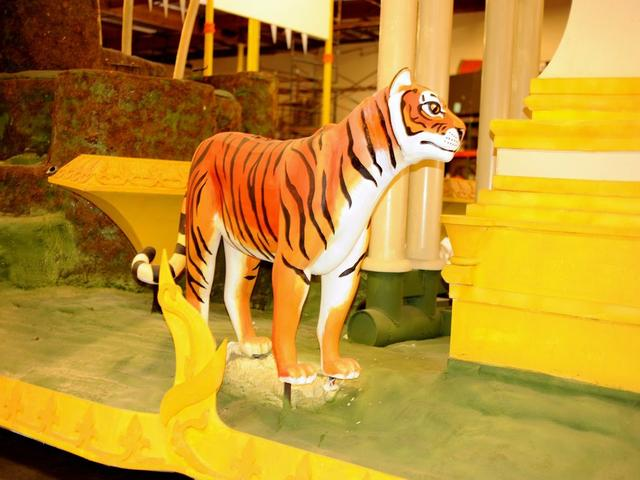tiger: (111, 56, 483, 421)
